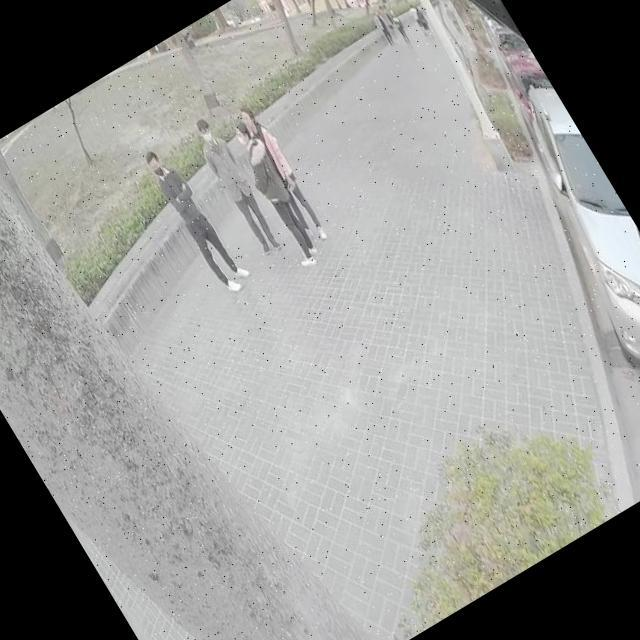person: (216, 110, 332, 272), (139, 138, 251, 295), (228, 96, 338, 254), (186, 116, 284, 256)
